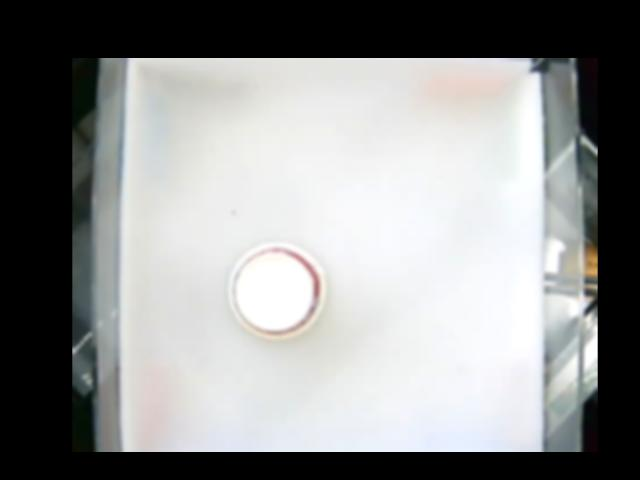Cup: (227, 236, 325, 337)
